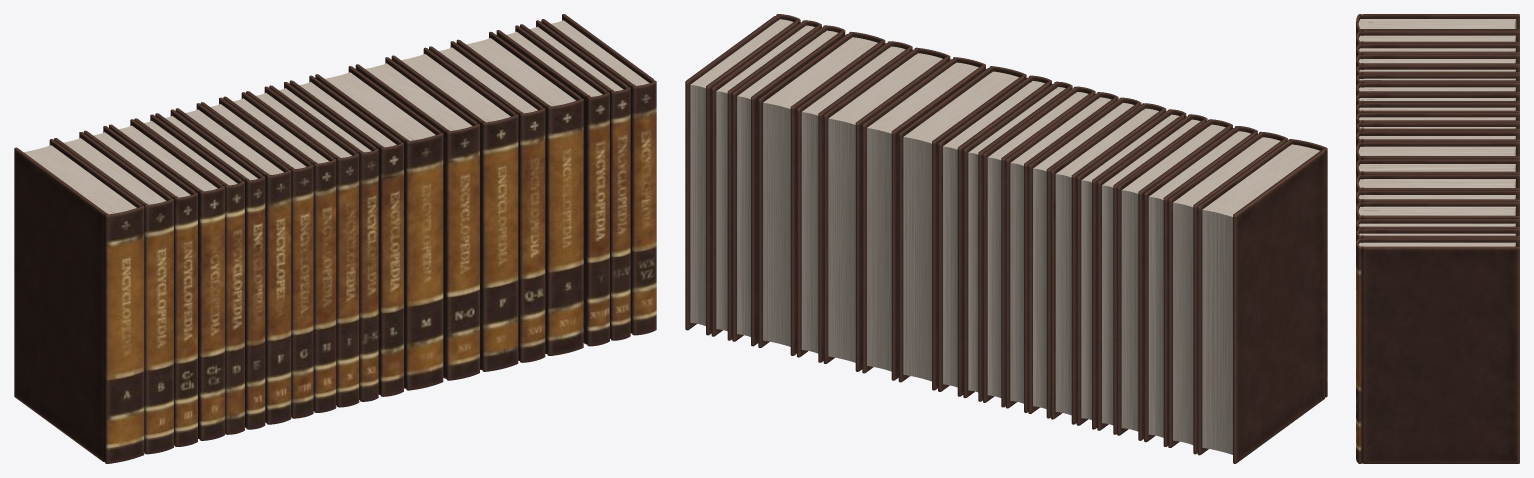
Rendered from book_encyclopedia_set_01_lod0.glb.
3 views of the same model, side by side, from view 1: azimuth 30°, elevation 25°; view 2: azimuth 150°, elevation 25°; view 3: azimuth 270°, elevation 25° (orthographic). The views are drawn at different scales.
Parts seen in each view (by area): view 1: book_encyclopedia_set_01_book01, book_encyclopedia_set_01_book13, book_encyclopedia_set_01_book15, book_encyclopedia_set_01_book17, book_encyclopedia_set_01_book14, book_encyclopedia_set_01_book02, book_encyclopedia_set_01_book16, book_encyclopedia_set_01_book04, book_encyclopedia_set_01_book18, book_encyclopedia_set_01_book20, book_encyclopedia_set_01_book07, book_encyclopedia_set_01_book12 (+8 smaller); view 2: book_encyclopedia_set_01_book01, book_encyclopedia_set_01_book13, book_encyclopedia_set_01_book15, book_encyclopedia_set_01_book17, book_encyclopedia_set_01_book14, book_encyclopedia_set_01_book02, book_encyclopedia_set_01_book04, book_encyclopedia_set_01_book16, book_encyclopedia_set_01_book18, book_encyclopedia_set_01_book20, book_encyclopedia_set_01_book07, book_encyclopedia_set_01_book12 (+8 smaller); view 3: book_encyclopedia_set_01_book20, book_encyclopedia_set_01_book13, book_encyclopedia_set_01_book01, book_encyclopedia_set_01_book17, book_encyclopedia_set_01_book15, book_encyclopedia_set_01_book14, book_encyclopedia_set_01_book02, book_encyclopedia_set_01_book16, book_encyclopedia_set_01_book03, book_encyclopedia_set_01_book12, book_encyclopedia_set_01_book07, book_encyclopedia_set_01_book04 (+8 smaller).
Boxes of the visible parts, x1=… form: book_encyclopedia_set_01_book01: x1=14, y1=139, x2=144, y2=463; book_encyclopedia_set_01_book13: x1=315, y1=66, x2=443, y2=390; book_encyclopedia_set_01_book15: x1=391, y1=47, x2=518, y2=371; book_encyclopedia_set_01_book17: x1=456, y1=31, x2=583, y2=355; book_encyclopedia_set_01_book14: x1=355, y1=57, x2=479, y2=380; book_encyclopedia_set_01_book02: x1=54, y1=132, x2=173, y2=454; book_encyclopedia_set_01_book16: x1=429, y1=41, x2=545, y2=362; book_encyclopedia_set_01_book04: x1=109, y1=119, x2=224, y2=440; book_encyclopedia_set_01_book18: x1=496, y1=25, x2=609, y2=346; book_encyclopedia_set_01_book20: x1=541, y1=14, x2=656, y2=335; book_encyclopedia_set_01_book07: x1=175, y1=103, x2=291, y2=424; book_encyclopedia_set_01_book12: x1=289, y1=75, x2=403, y2=396; book_encyclopedia_set_01_book01: x1=1197, y1=139, x2=1327, y2=463; book_encyclopedia_set_01_book13: x1=898, y1=66, x2=1026, y2=390; book_encyclopedia_set_01_book15: x1=823, y1=47, x2=950, y2=371; book_encyclopedia_set_01_book17: x1=758, y1=32, x2=885, y2=355; book_encyclopedia_set_01_book14: x1=862, y1=57, x2=985, y2=380; book_encyclopedia_set_01_book02: x1=1168, y1=131, x2=1287, y2=454; book_encyclopedia_set_01_book04: x1=1117, y1=119, x2=1232, y2=440; book_encyclopedia_set_01_book16: x1=797, y1=41, x2=912, y2=362; book_encyclopedia_set_01_book18: x1=732, y1=25, x2=845, y2=346; book_encyclopedia_set_01_book20: x1=685, y1=14, x2=800, y2=335; book_encyclopedia_set_01_book07: x1=1051, y1=103, x2=1166, y2=424; book_encyclopedia_set_01_book12: x1=938, y1=75, x2=1051, y2=396; book_encyclopedia_set_01_book20: x1=1356, y1=238, x2=1519, y2=463; book_encyclopedia_set_01_book13: x1=1356, y1=142, x2=1519, y2=164; book_encyclopedia_set_01_book01: x1=1356, y1=14, x2=1519, y2=35; book_encyclopedia_set_01_book17: x1=1356, y1=202, x2=1519, y2=222; book_encyclopedia_set_01_book15: x1=1356, y1=174, x2=1519, y2=194; book_encyclopedia_set_01_book14: x1=1356, y1=159, x2=1519, y2=180; book_encyclopedia_set_01_book02: x1=1356, y1=30, x2=1519, y2=47; book_encyclopedia_set_01_book16: x1=1356, y1=190, x2=1519, y2=208; book_encyclopedia_set_01_book03: x1=1356, y1=43, x2=1519, y2=58; book_encyclopedia_set_01_book12: x1=1356, y1=131, x2=1519, y2=148; book_encyclopedia_set_01_book07: x1=1356, y1=82, x2=1519, y2=96; book_encyclopedia_set_01_book04: x1=1356, y1=54, x2=1519, y2=68.
Size of the model in its own units: 0.5513 by 0.2374 by 0.1631.
2 materials, 2 textured.
